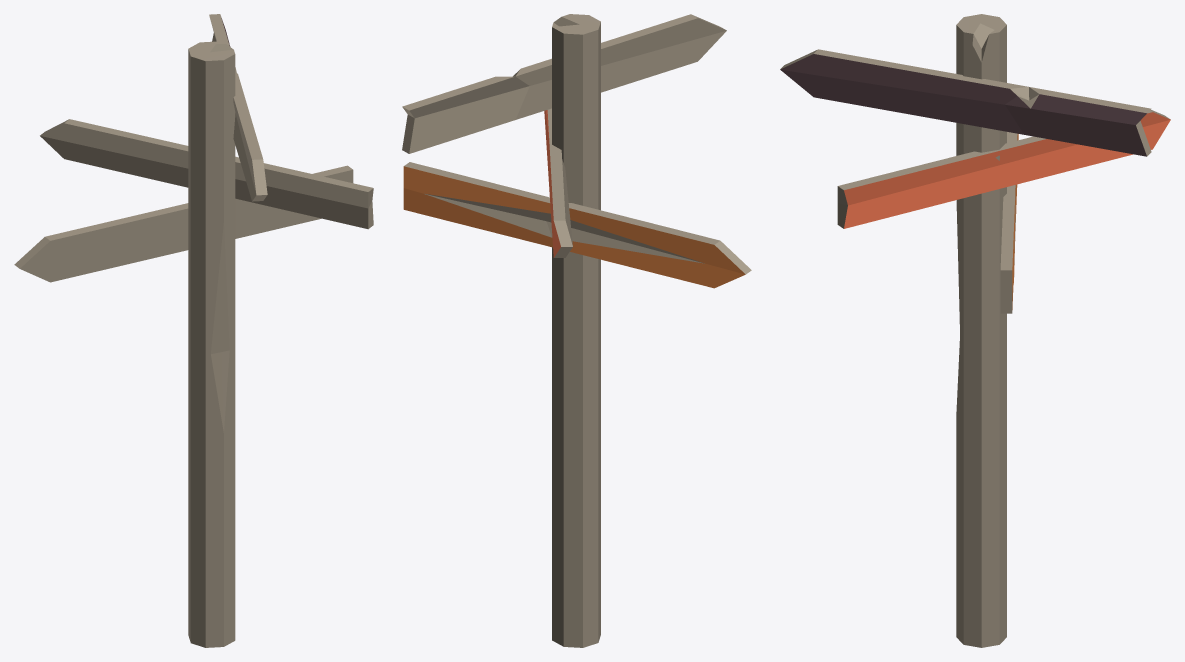
Rendered from sign1.fbx.
The picture shows the model from 3 angles, left to right: view 1: azimuth 30°, elevation 25°; view 2: azimuth 150°, elevation 25°; view 3: azimuth 270°, elevation 25°; orthographic projection. The views are drawn at different scales.
Parts seen in each view (by area): view 1: Cube; view 2: Cube; view 3: Cube.
Part boxes in pixels (bbox=[...]): Cube: bbox=[14, 14, 373, 647]; Cube: bbox=[402, 14, 751, 647]; Cube: bbox=[780, 14, 1170, 647].
Size of the model in its own units: 2.2 by 3.74 by 2.16.
